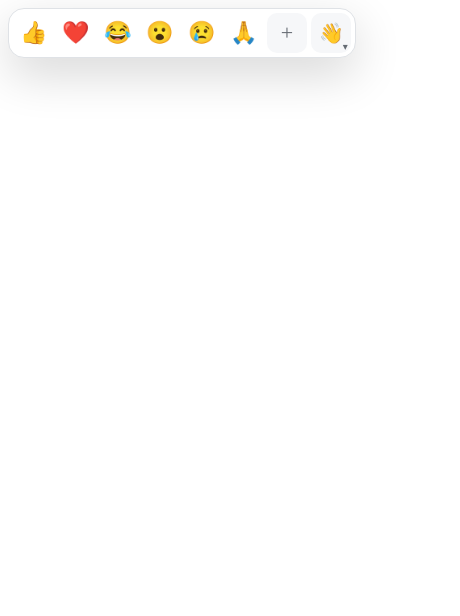
Test: MediaPicker compact mode › keeps one integrated surface through React StrictMode transitions
Expected: the number of elements named "Quick reactions" is 1, [9,9,311,57]
Click the button named "Open full media picker" at (287, 33), box [267,13,307,53]
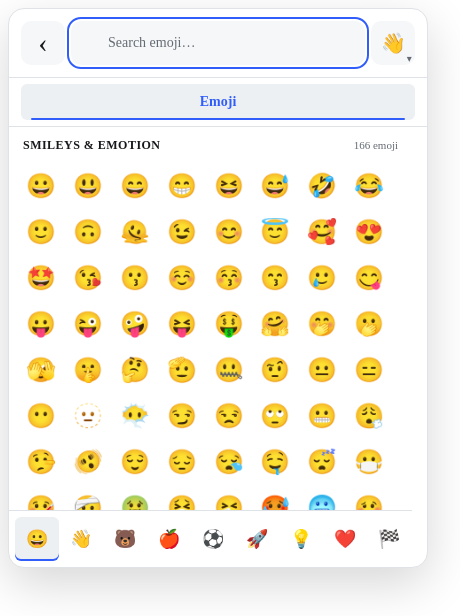
Now the search field labelled "Search emoji" is shown, box [71,21,365,65]
